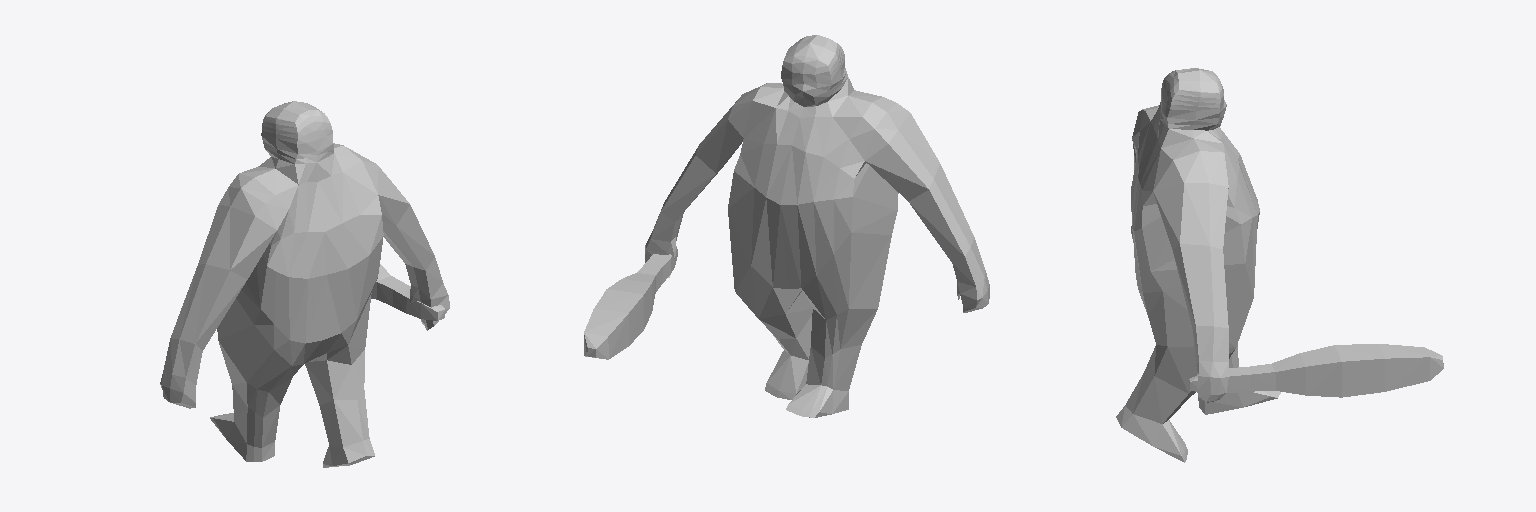
Rendered from Enemigo224.obj.
The picture shows the model from 3 angles: view 1: azimuth 30°, elevation 25°; view 2: azimuth 150°, elevation 25°; view 3: azimuth 270°, elevation 25°; orthographic projection.
Parts seen in each view (by area): view 1: Cube; view 2: Cube; view 3: Cube.
Part boxes in pixels (x1,y1,x2,y2): Cube: (160,101,449,467); Cube: (584,35,989,417); Cube: (1116,68,1443,462).
Size of the model in its own units: 2.49 by 2.85 by 2.29.